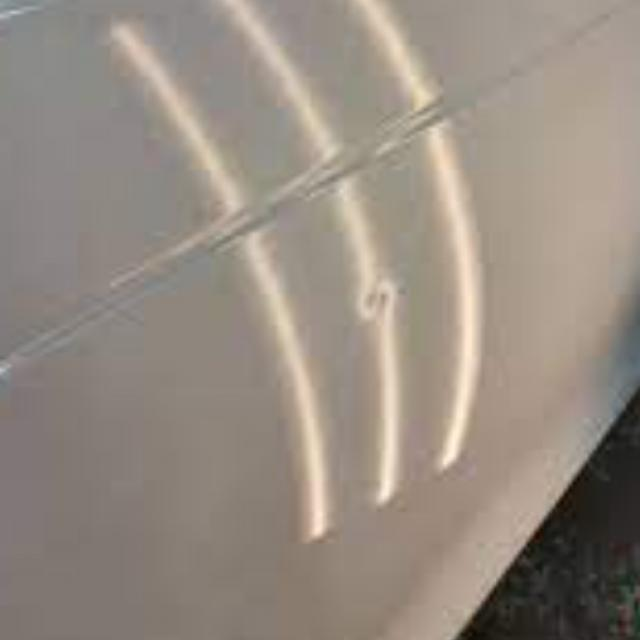dents: (352, 277, 416, 338)
